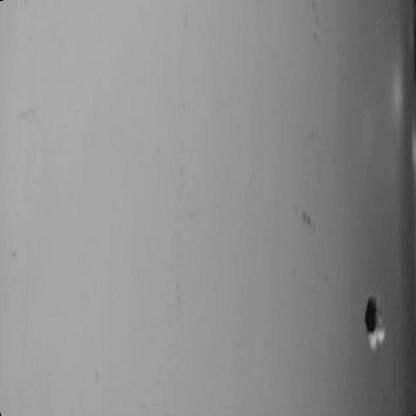kongdong: (352, 291, 400, 354)
